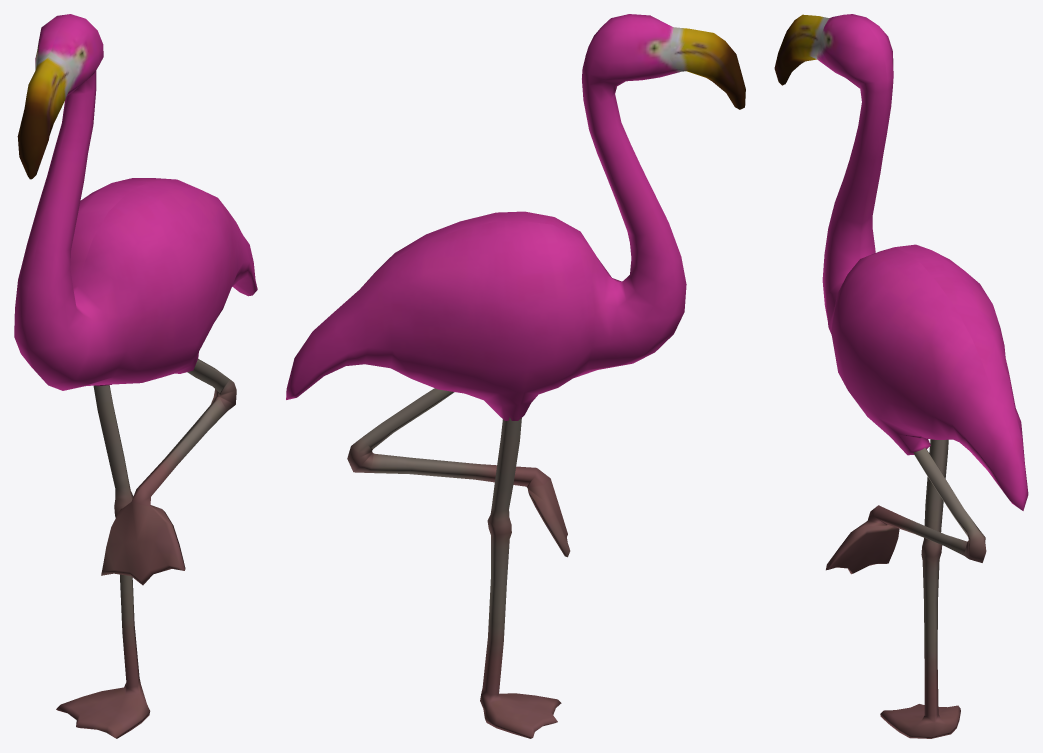
3 views of the same model, side by side, from view 1: azimuth 30°, elevation 25°; view 2: azimuth 150°, elevation 25°; view 3: azimuth 270°, elevation 25° (orthographic). The views are drawn at different scales.
Bounding box in the file's own units: 7.65 × 15.08 × 5.17.
Materials: 1 (1 with a texture image).
